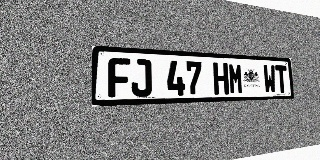4: (167, 60, 185, 96)
7: (185, 61, 203, 95)
F: (108, 58, 130, 97)
H: (213, 62, 229, 95)
J: (131, 59, 152, 97)
M: (228, 63, 243, 94)
T: (275, 65, 288, 93)
W: (263, 64, 276, 93)
